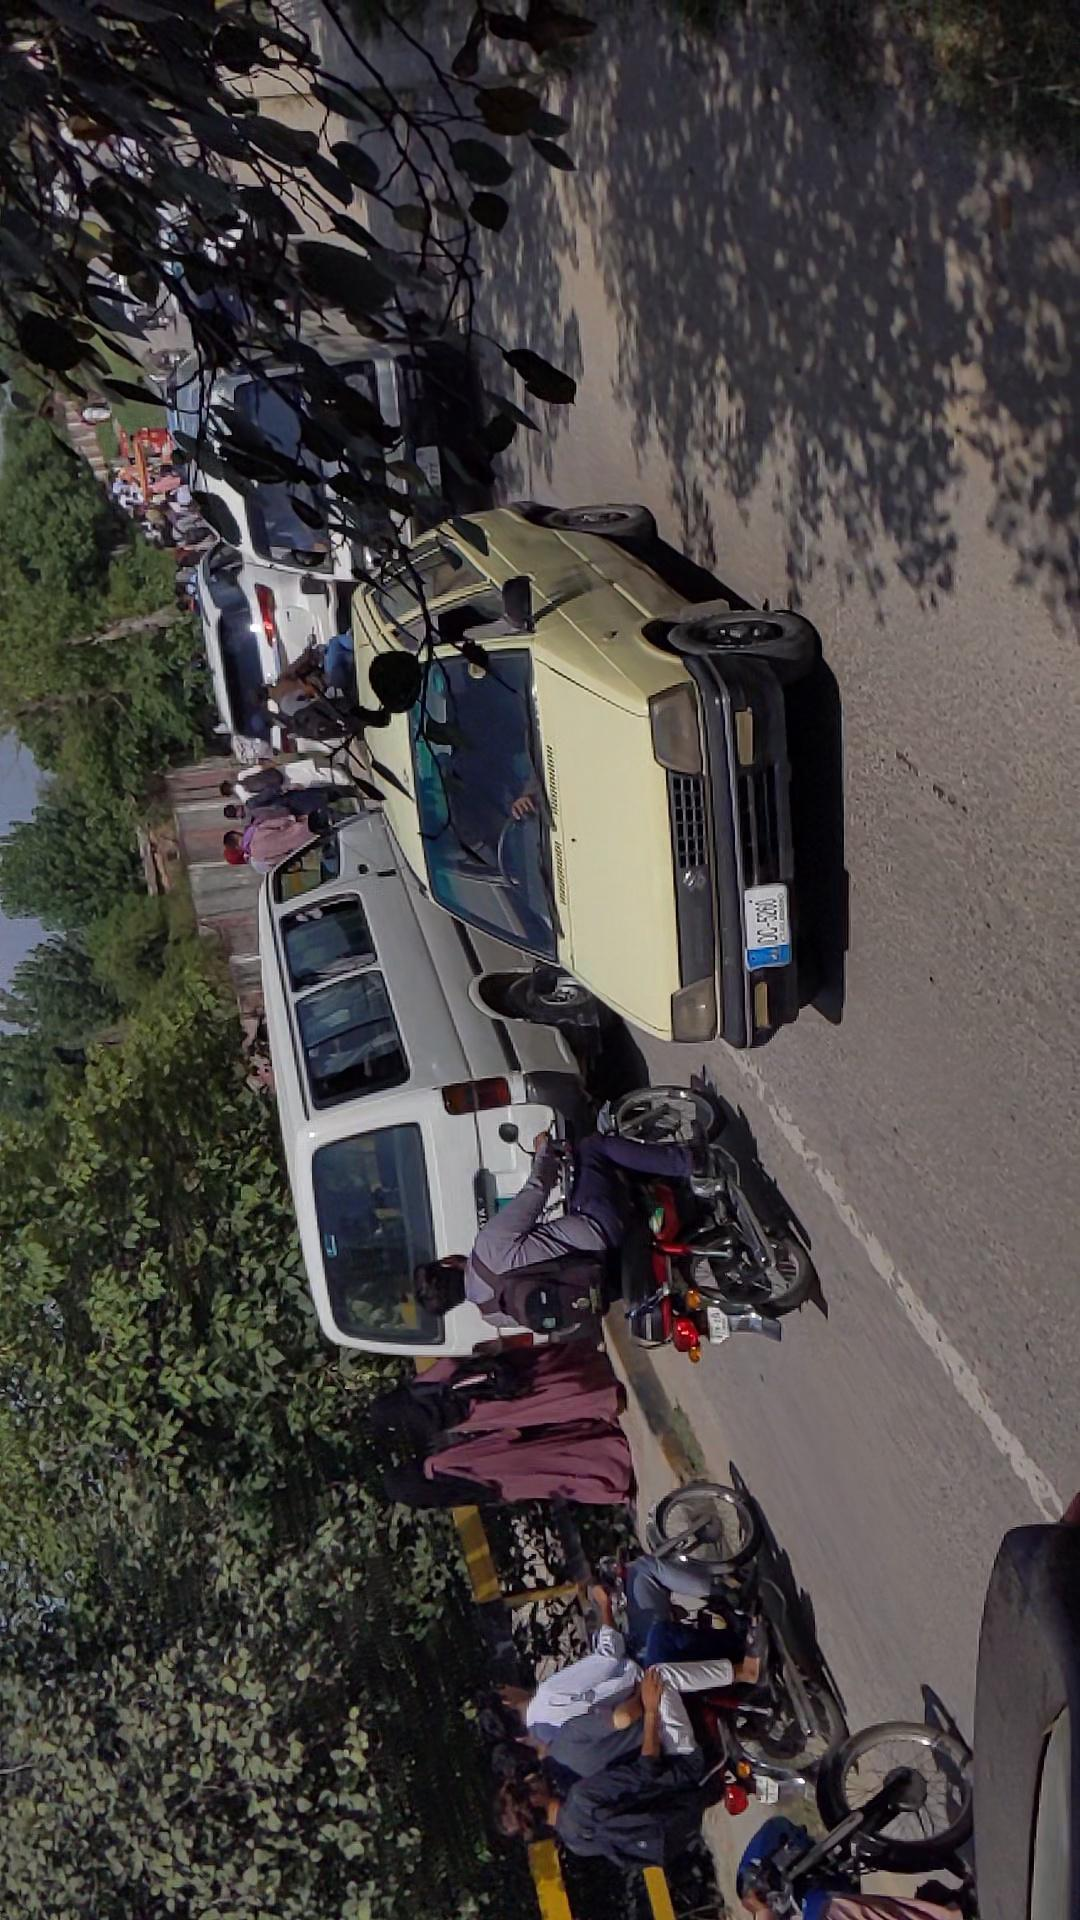windshield: (534, 729, 715, 989)
